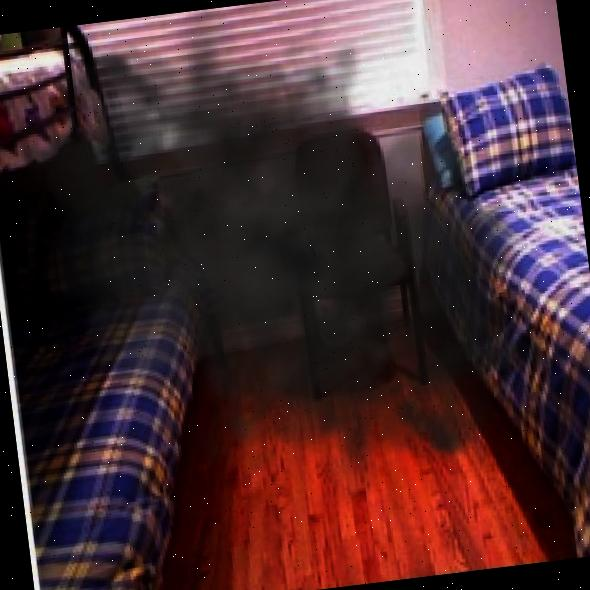smoke: (139, 77, 399, 313)
